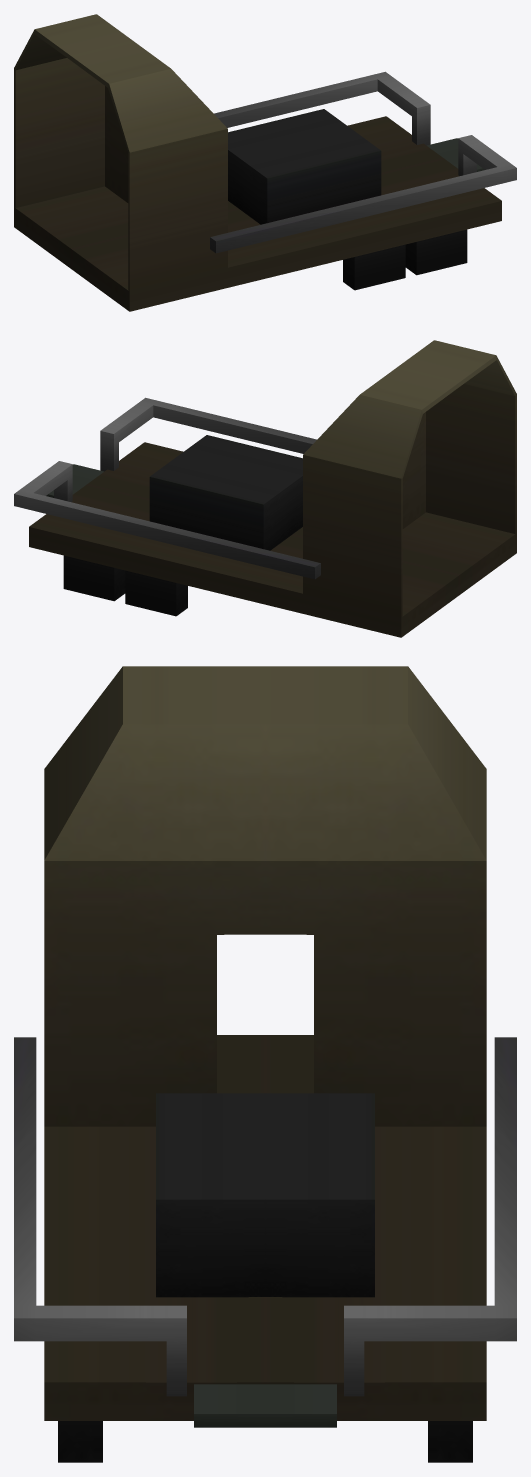
Rendered from train_half_heavy_weapon_basewagon_placeholder_v011.fbx.
3 views of the same model, one above another, from view 1: azimuth 30°, elevation 25°; view 2: azimuth 150°, elevation 25°; view 3: azimuth 270°, elevation 25° (orthographic). The views are drawn at different scales.
Parts seen in each view (by area): view 1: base heavy gun v2; view 2: base heavy gun v2; view 3: base heavy gun v2.
Part boxes in pixels (left/top/right/bottom): base heavy gun v2: left=14, top=14, right=516, bottom=311; base heavy gun v2: left=14, top=340, right=516, bottom=637; base heavy gun v2: left=14, top=666, right=516, bottom=1462.
Bounding box in the file's own units: 336 × 352 × 597.
Materials: 2 (2 with a texture image).
